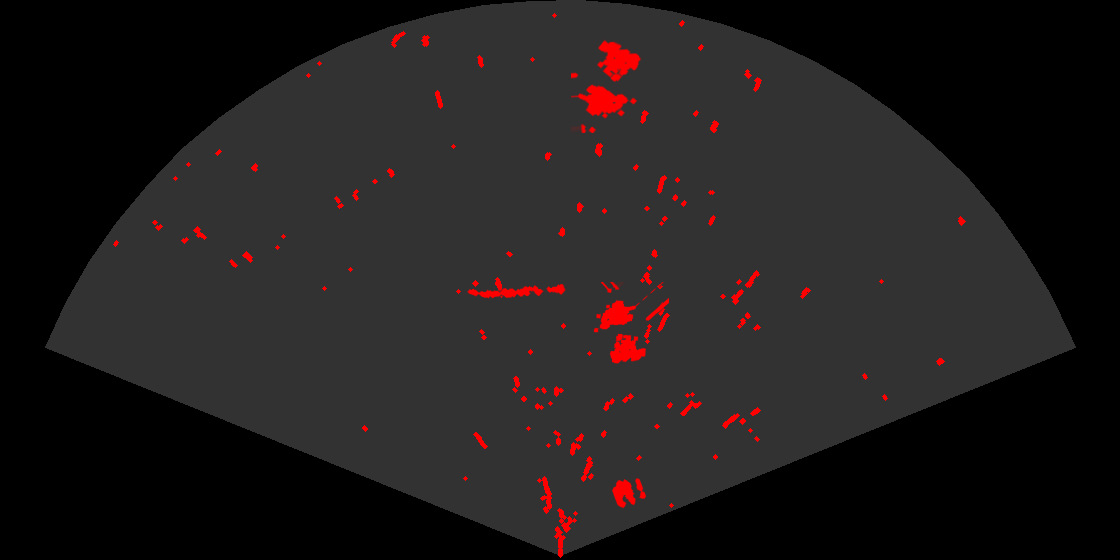ball: (611, 477, 648, 510)
cage: (571, 38, 643, 133), (592, 282, 669, 365)
chain: (466, 282, 568, 300)
